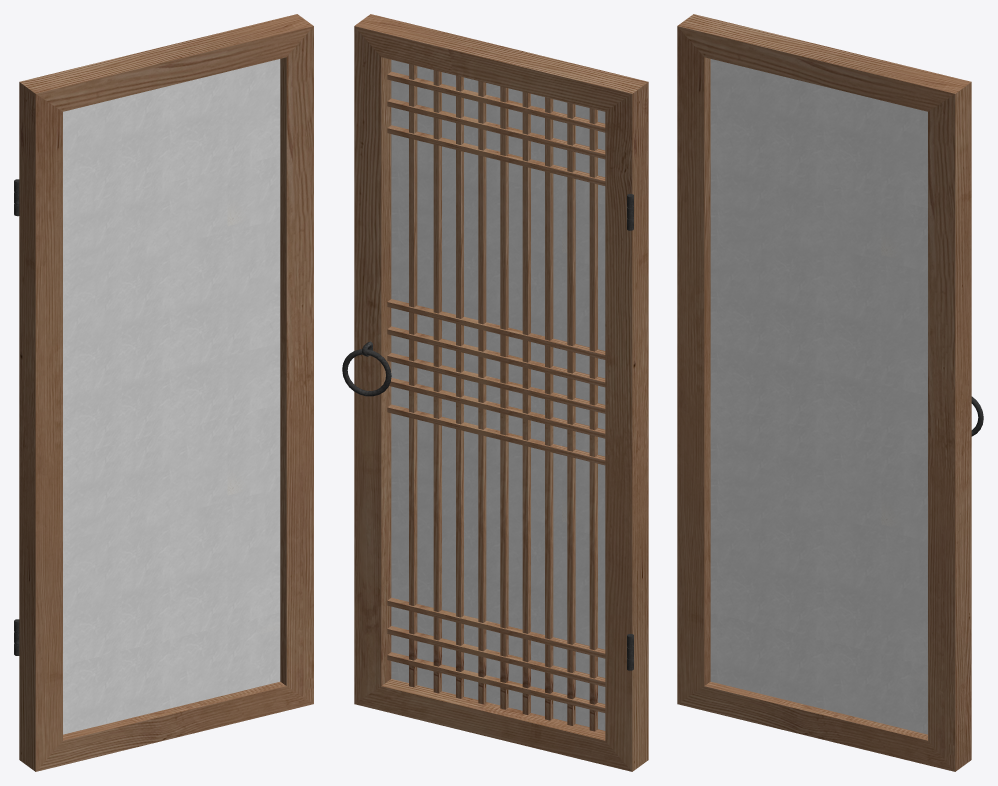
File: SM_Yeonkyung_Anchae_Win_B_001.fbx
3 views of the same model, side by side, from view 1: azimuth 30°, elevation 25°; view 2: azimuth 150°, elevation 25°; view 3: azimuth 330°, elevation 25° (orthographic).
Parts seen in each view (by area): view 1: SM_Yeonkyung_Anchae_Win_B_001; view 2: SM_Yeonkyung_Anchae_Win_B_001; view 3: SM_Yeonkyung_Anchae_Win_B_001.
Boxes of the visible parts, <box> form: SM_Yeonkyung_Anchae_Win_B_001: <box>14,14,313,771</box>; SM_Yeonkyung_Anchae_Win_B_001: <box>342,14,648,771</box>; SM_Yeonkyung_Anchae_Win_B_001: <box>677,14,983,771</box>.
Size of the model in its own units: 57.48 by 130 by 8.41.
